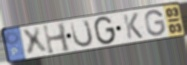G: (93, 15, 118, 46), (144, 9, 167, 37)
H: (41, 22, 72, 56)
K: (122, 12, 145, 40)
U: (69, 18, 95, 49)
X: (20, 26, 50, 57)
